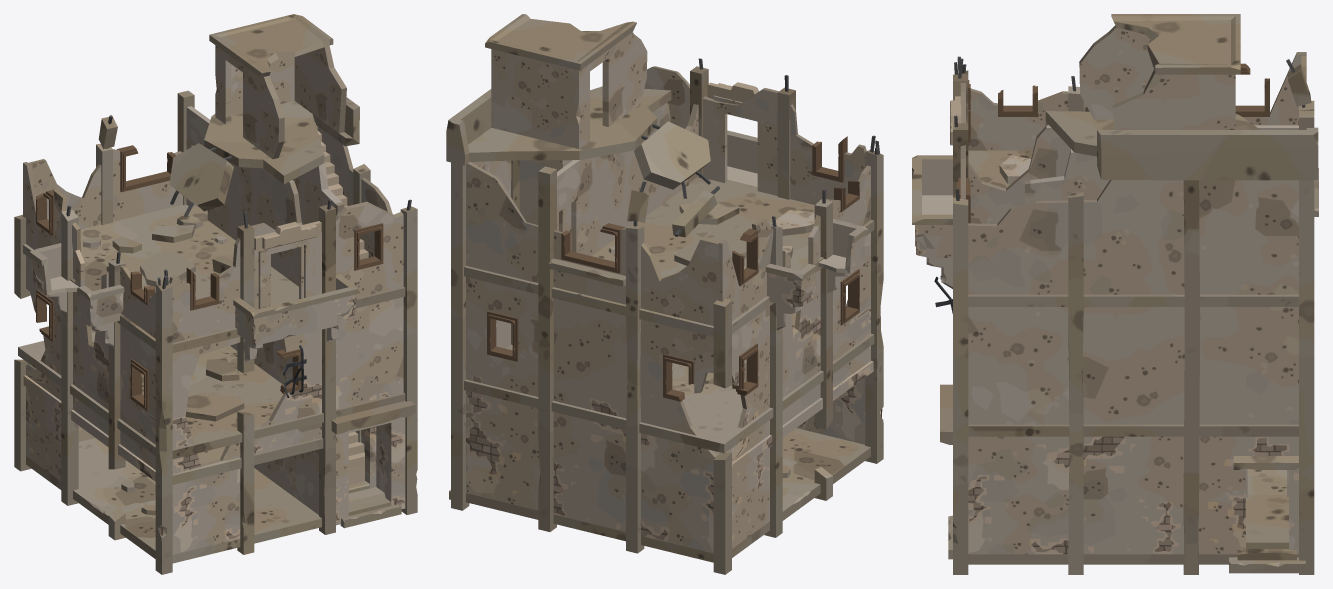
The model's file is SM_Bld_Shop_05_Destroyed.fbx.
3 views of the same model, side by side, from view 1: azimuth 30°, elevation 25°; view 2: azimuth 150°, elevation 25°; view 3: azimuth 270°, elevation 25° (orthographic). The views are drawn at different scales.
Parts seen in each view (by area): view 1: SM_Bld_Shop_05_Destroyed; view 2: SM_Bld_Shop_05_Destroyed; view 3: SM_Bld_Shop_05_Destroyed.
Boxes of the visible parts, bbox=[...] form: SM_Bld_Shop_05_Destroyed: bbox=[14, 14, 417, 574]; SM_Bld_Shop_05_Destroyed: bbox=[446, 14, 883, 574]; SM_Bld_Shop_05_Destroyed: bbox=[912, 14, 1318, 574].
Size of the model in its own units: 1068 by 1454 by 1058.
